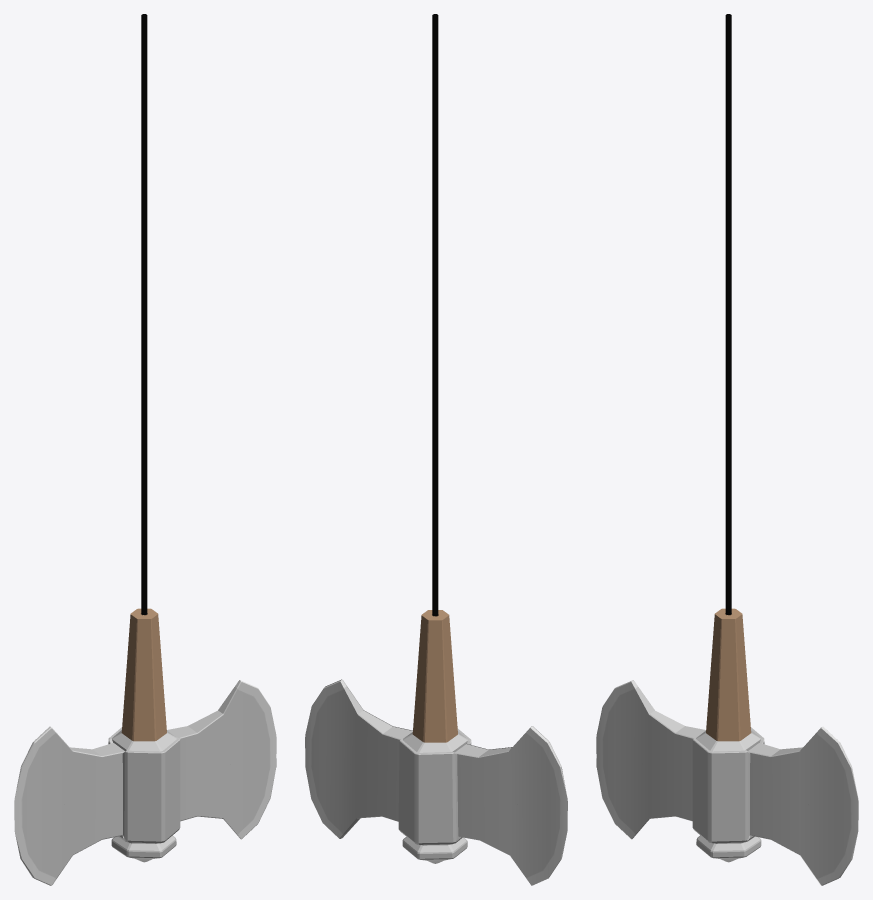
Rendered from axe.fbx.
3 views of the same model, side by side, from view 1: azimuth 30°, elevation 25°; view 2: azimuth 150°, elevation 25°; view 3: azimuth 330°, elevation 25° (orthographic).
Visible parts, largest first — view 1: Cylinder; view 2: Cylinder; view 3: Cylinder.
Part boxes in pixels (x1,y1,x2,y2): Cylinder: [14, 14, 276, 885]; Cylinder: [305, 14, 567, 885]; Cylinder: [596, 14, 858, 885].
Size of the model in its own units: 854 by 2632 by 214.
Materials: 1 (1 with a texture image).
